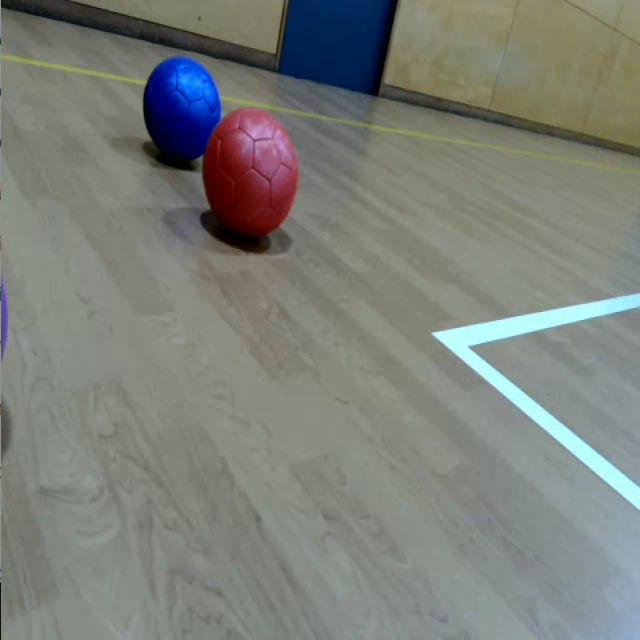blue_ball: (142, 56, 222, 159)
red_ball: (203, 105, 301, 238)
